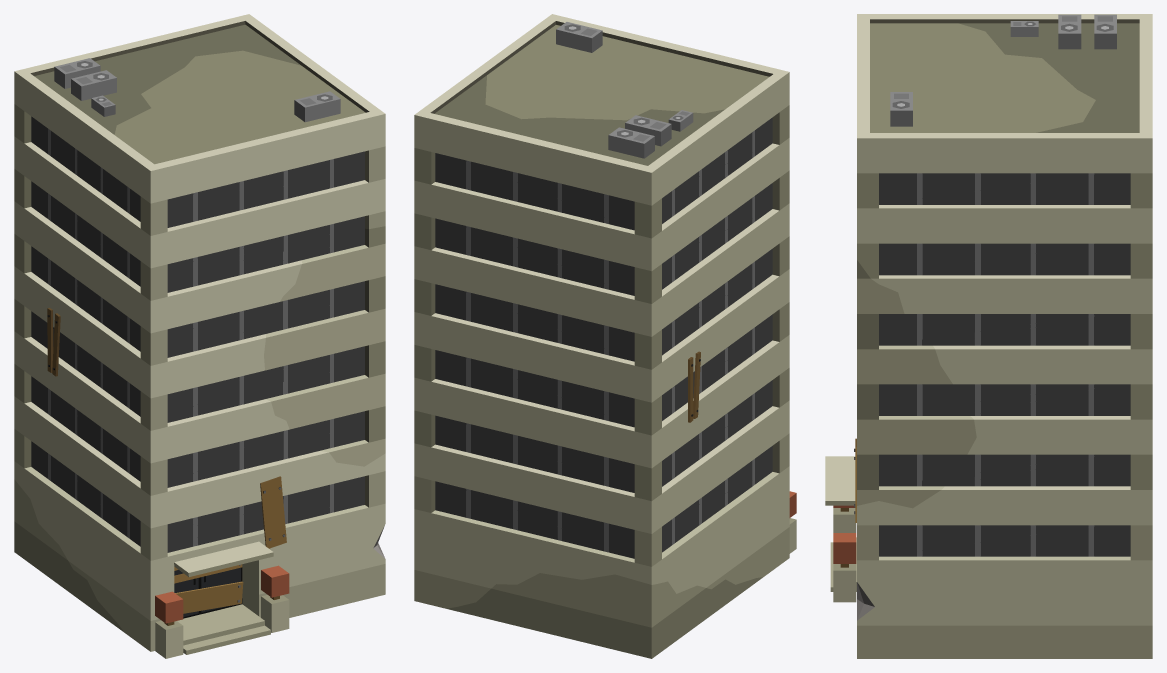
File: SA_Bld_OfficeWhite_03.glb
3 renders of one model, left to right at view 1: azimuth 30°, elevation 25°; view 2: azimuth 150°, elevation 25°; view 3: azimuth 270°, elevation 25°, orthographic. The views are drawn at different scales.
Visible parts, largest first — view 1: SA_Bld_OfficeWhite_03; view 2: SA_Bld_OfficeWhite_03; view 3: SA_Bld_OfficeWhite_03.
Part boxes in pixels (x1,y1,x2,y2): SA_Bld_OfficeWhite_03: (14, 14, 385, 658); SA_Bld_OfficeWhite_03: (414, 14, 796, 658); SA_Bld_OfficeWhite_03: (825, 14, 1152, 658).
Size of the model in its own units: 5.81 by 11.44 by 6.37.
1 material, 1 textured.
